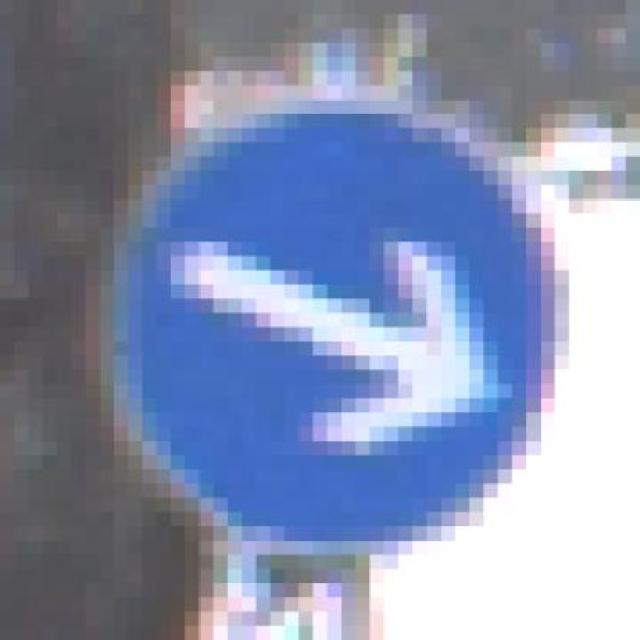Keep-Right: (85, 99, 598, 584)
